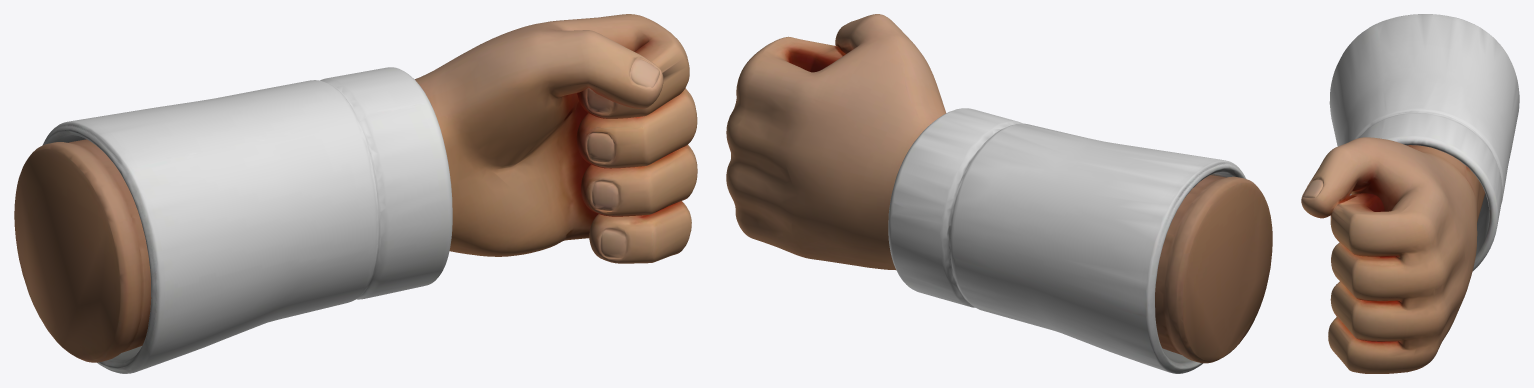
File: hand-left.glb
3 views of the same model, side by side, from view 1: azimuth 30°, elevation 25°; view 2: azimuth 150°, elevation 25°; view 3: azimuth 270°, elevation 25° (orthographic). The views are drawn at different scales.
Parts seen in each view (by area): view 1: node_0; view 2: node_0; view 3: node_0.
Part boxes in pixels (x1=…): node_0: x1=14, y1=14, x2=697, y2=373; node_0: x1=726, y1=14, x2=1272, y2=373; node_0: x1=1301, y1=14, x2=1519, y2=373.
Bounding box in the file's own units: 1.12 × 0.4774 × 0.4737.
Materials: 1 (1 with a texture image).
